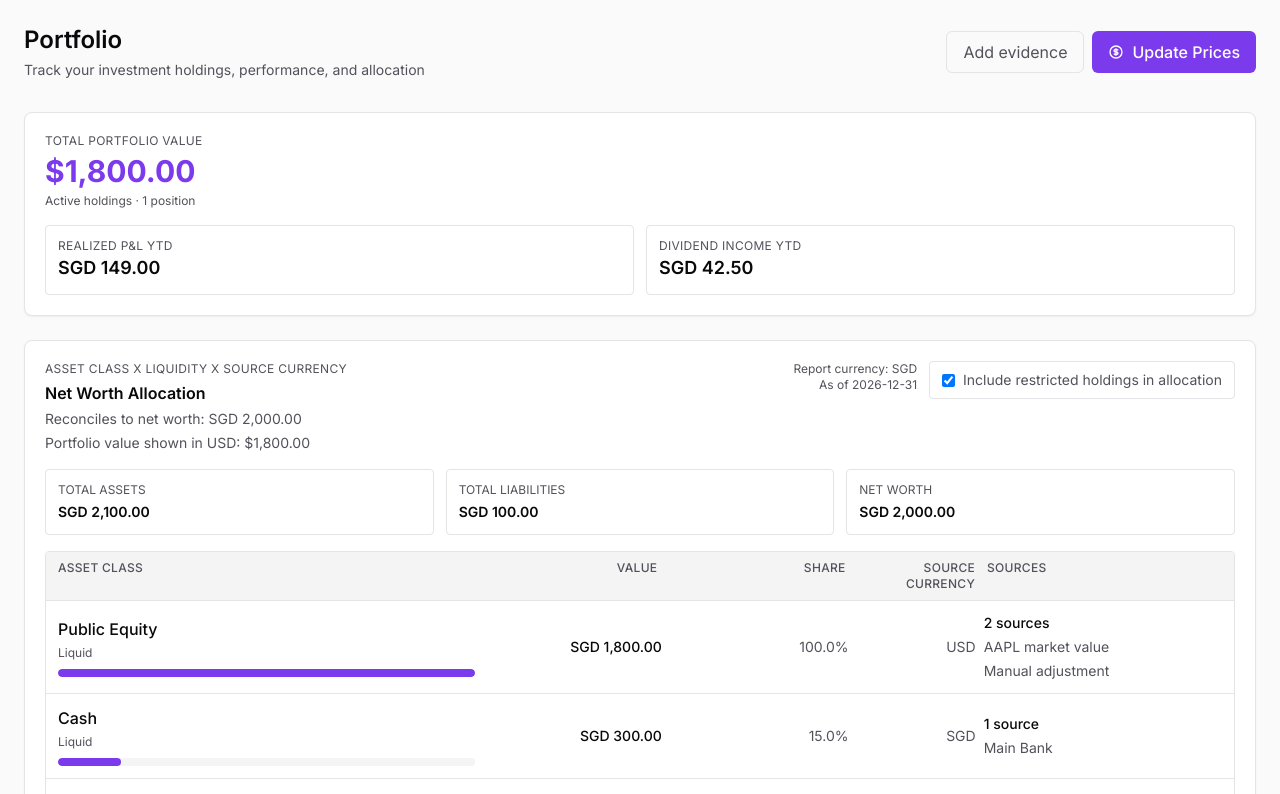
it: PortfolioPage › #2645 opens the lineage drawer from a ledger source and links no source to an API path
Click the button with aria-label "View source transactions for Main Bank" at x=1018, y=748, box [984,738,1053,758]
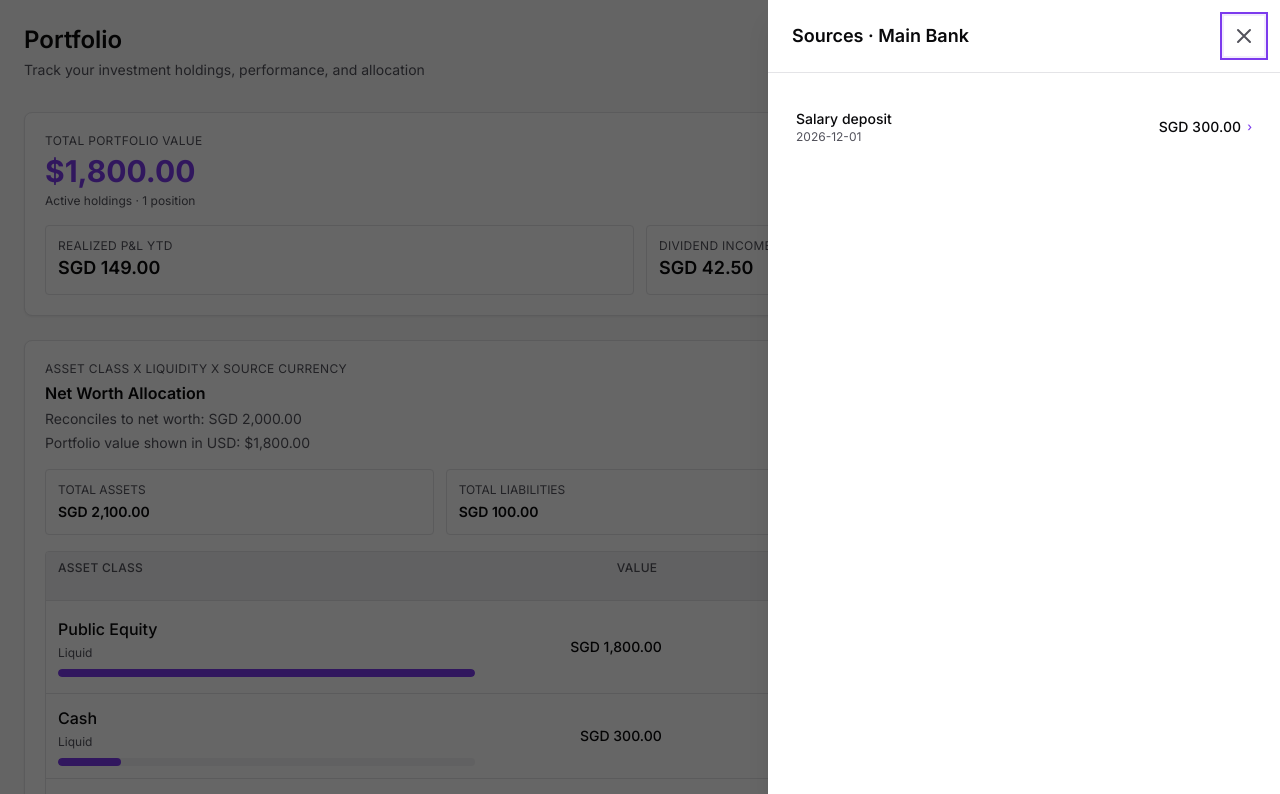
expect the text "Salary deposit" is shown: met, box [796,109,892,129]
